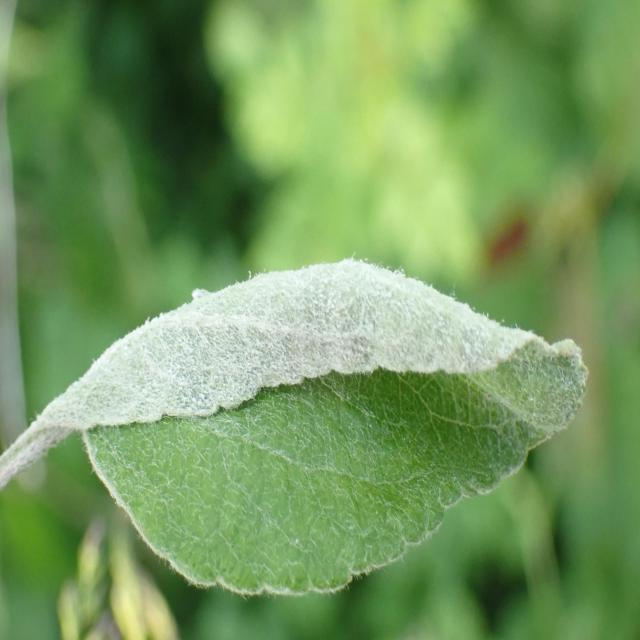Powdery_mildew: (5, 252, 601, 598)
